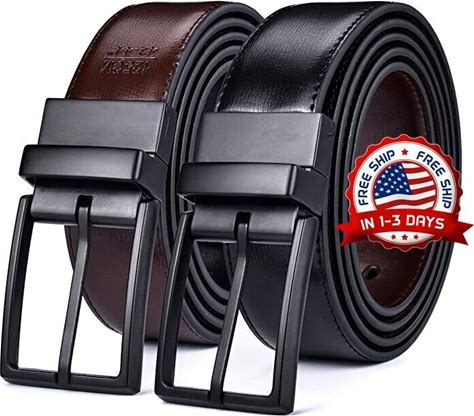cuero: (65, 4, 460, 367)
